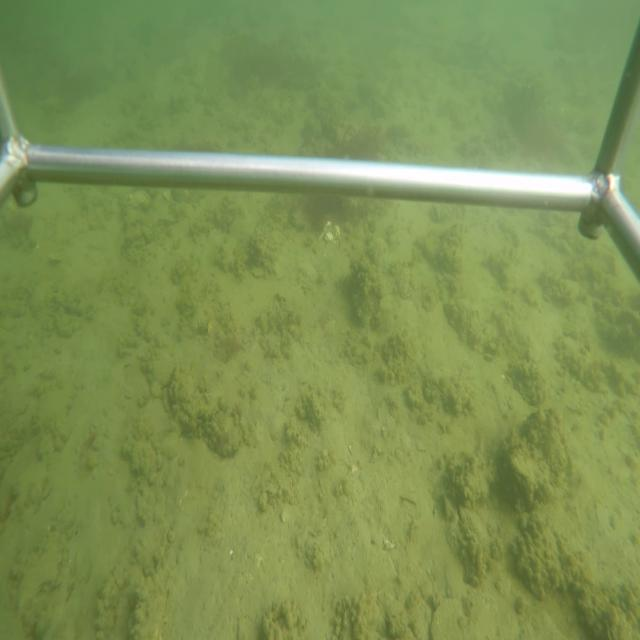Oyster-Open: (454, 498, 468, 533)
